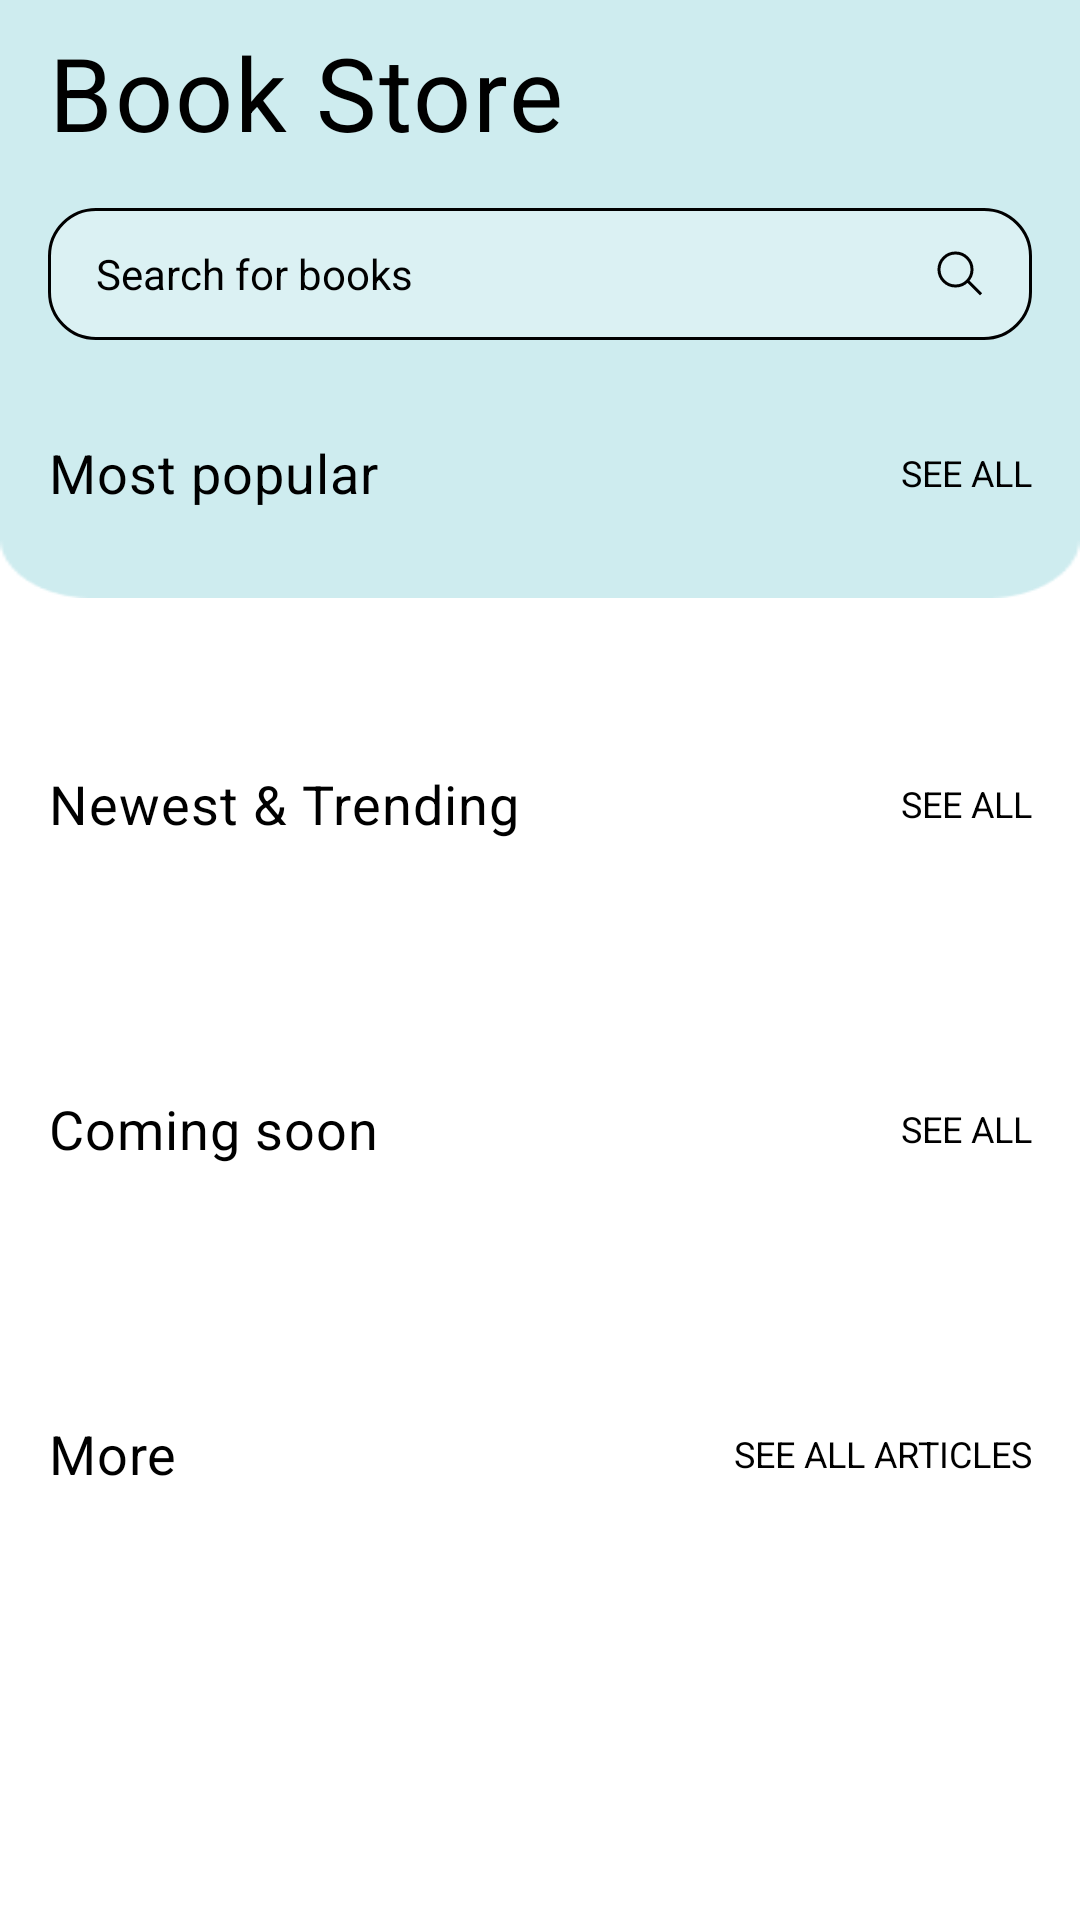

Screen size 1080px×1920px. Icon name, then its center in pixels as point (x, y):
Search Icon: point (959, 273)
